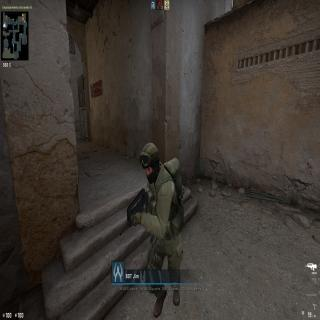CT-Head: (138, 140, 162, 188)
